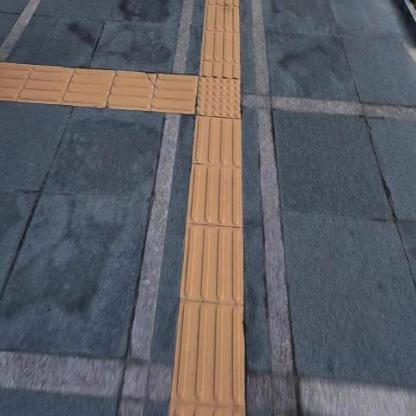podotacti: (168, 120, 249, 416), (0, 60, 196, 117), (175, 46, 261, 142), (198, 0, 243, 75)
